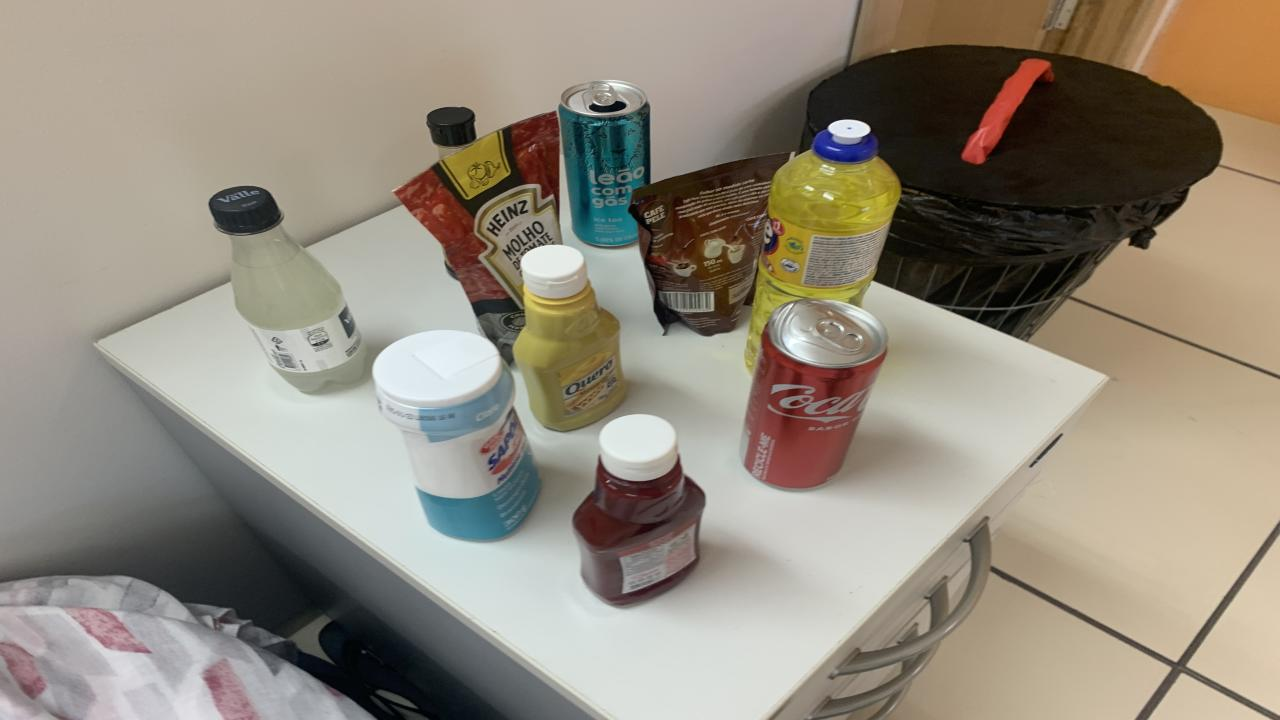Cleaner-Cleanup_Items: (372, 330, 540, 540)
Coffee-Pantry_Items: (628, 154, 792, 336)
Coke-Drinks: (740, 298, 888, 489)
Detergent-Cleanup_Items: (745, 120, 900, 369)
English_Sauce-Pantry_Items: (428, 107, 475, 159)
Ketchup-Pantry_Items: (572, 414, 705, 606)
Mustard-Pantry_Items: (512, 246, 625, 431)
Soda-Drinks: (210, 186, 365, 392)
Tea-Drinks: (558, 81, 650, 248)
Tomato_Sauce-Pantry_Items: (395, 112, 562, 362)
